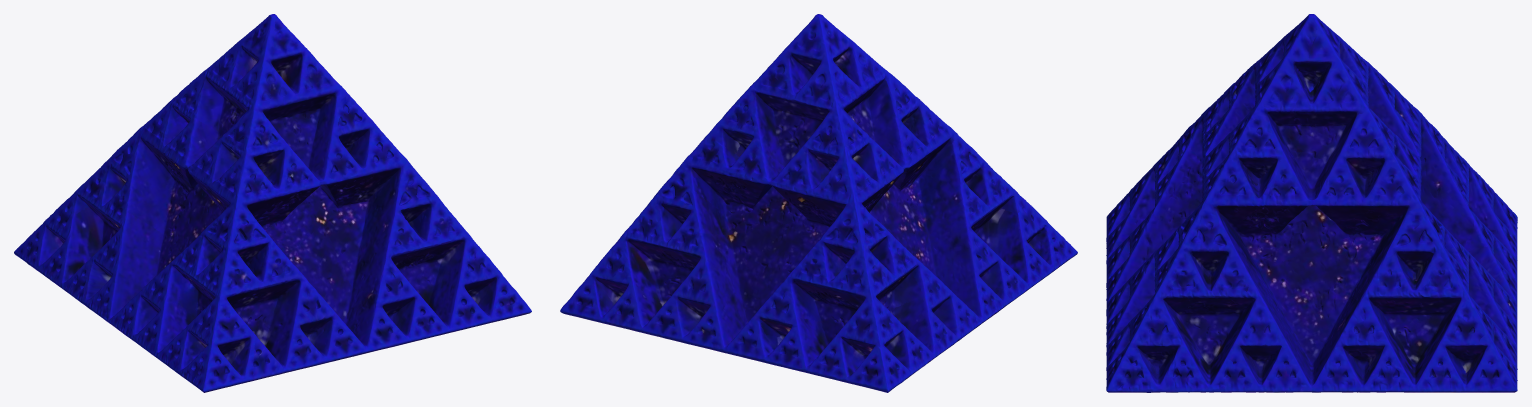
Rendered from triangulo3d2.glb.
3 views of the same model, side by side, from view 1: azimuth 30°, elevation 25°; view 2: azimuth 150°, elevation 25°; view 3: azimuth 270°, elevation 25° (orthographic). The views are drawn at different scales.
Visible parts, largest first — view 1: tripo_node_be03878c_tripo_mat_be03878c_0; view 2: tripo_node_be03878c_tripo_mat_be03878c_0; view 3: tripo_node_be03878c_tripo_mat_be03878c_0.
Boxes of the visible parts, x1,y1,x2,y2 form: tripo_node_be03878c_tripo_mat_be03878c_0: [14, 14, 531, 392]; tripo_node_be03878c_tripo_mat_be03878c_0: [560, 14, 1077, 392]; tripo_node_be03878c_tripo_mat_be03878c_0: [1106, 14, 1517, 392].
Size of the model in its own units: 1 by 0.7829 by 0.9998.
1 material, 1 textured.
